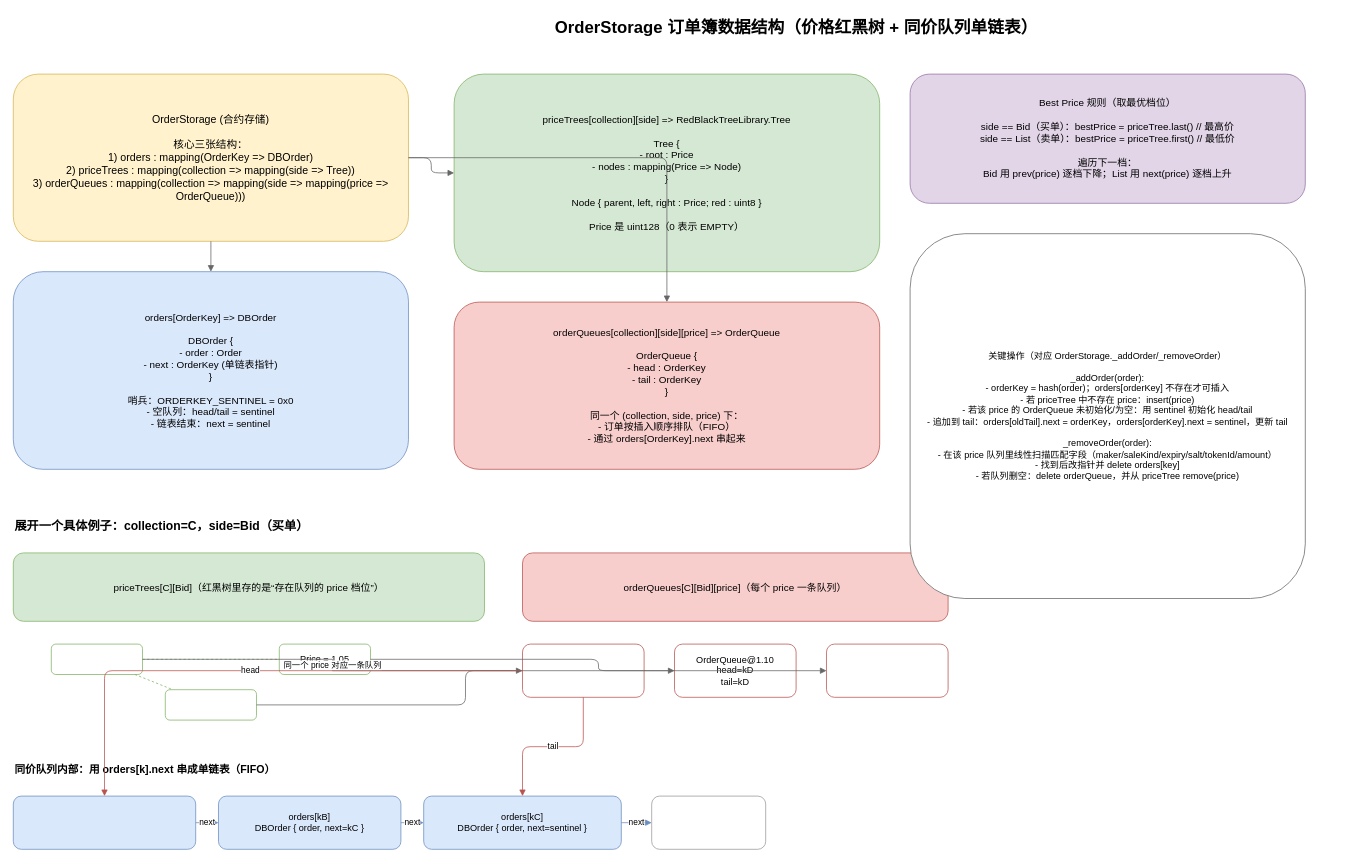
Some shapes in this 1372 by 863 pixel diagram are drawn without their labels. The centre of each missing label's shape, as x and y in pixels:
"ORDERKEY_SENTINEL (0x0)" belongs at [708,822].
"OrderQueue@1.05 head=sentinel tail=sentinel" belongs at [887,670].
"OrderQueue@1.20 head=kA tail=kC" belongs at [583,670].
"orders[kA] DBOrder { order, next=kB }" belongs at [104,822].
"Price = 1.10" belongs at [210,704].
"Price = 1.20" belongs at [96,658].
